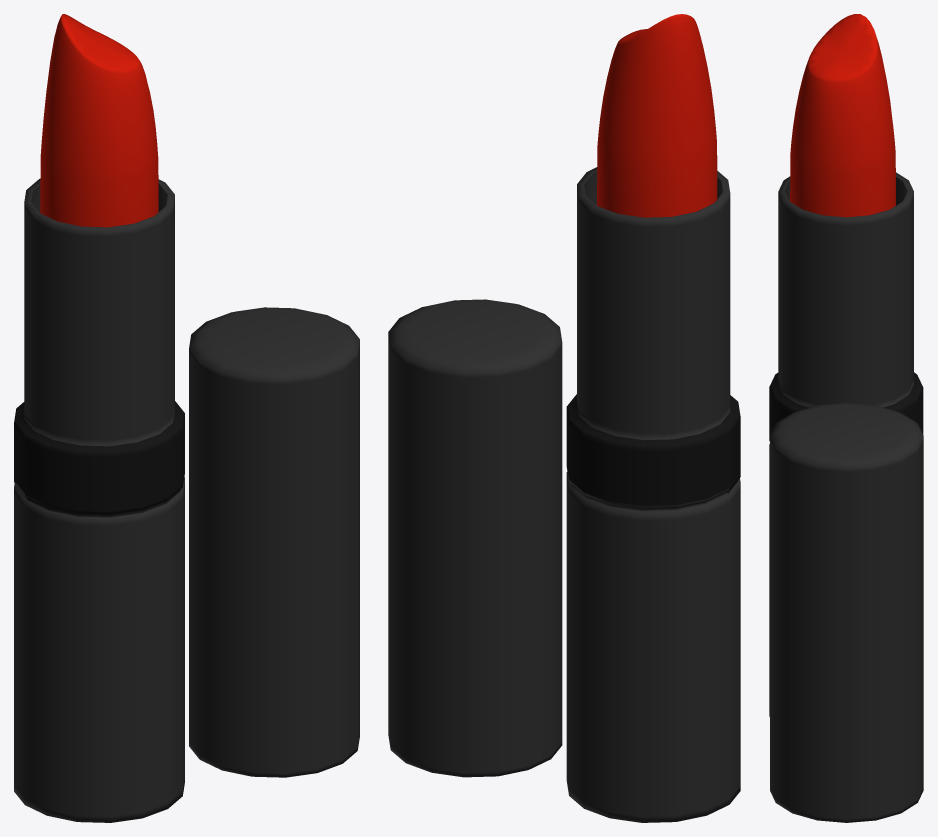
Rendered from lipstick.fbx.
3 views of the same model, side by side, from view 1: azimuth 30°, elevation 25°; view 2: azimuth 150°, elevation 25°; view 3: azimuth 270°, elevation 25° (orthographic). The views are drawn at different scales.
Parts seen in each view (by area): view 1: Lipstick_Case, LipstickCap, Lipstick; view 2: Lipstick_Case, LipstickCap, Lipstick; view 3: LipstickCap, Lipstick_Case, Lipstick.
Boxes of the visible parts, x1,y1,x2,y2 form: Lipstick_Case: (14,178,184,822); LipstickCap: (189,307,359,777); Lipstick: (40,14,158,227); Lipstick_Case: (566,167,740,822); LipstickCap: (388,299,562,777); Lipstick: (597,14,717,217); LipstickCap: (770,403,923,822); Lipstick_Case: (769,172,923,716); Lipstick: (790,14,895,217).
Bounding box in the file's own units: 0.1457 × 0.3313 × 0.0673.
